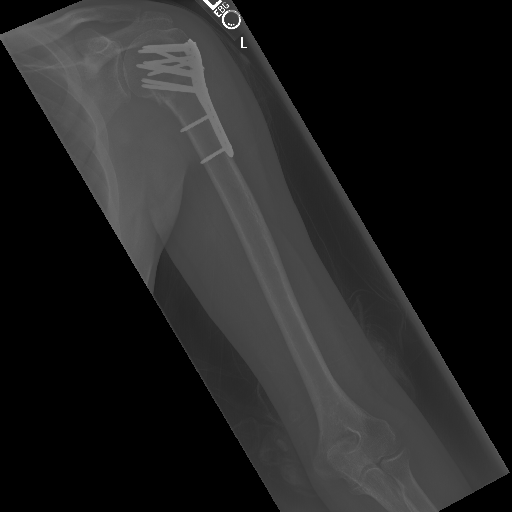implant: (137, 34, 211, 100), (175, 107, 235, 166)
